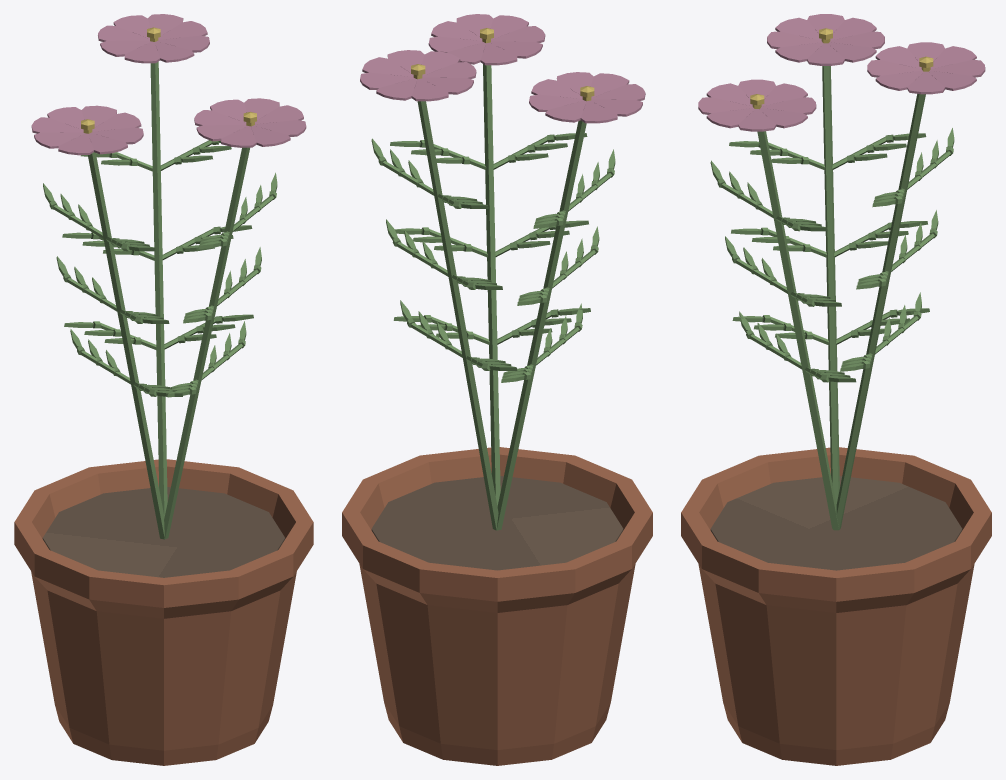
The model's file is cosmos.glb.
3 views of the same model, side by side, from view 1: azimuth 30°, elevation 25°; view 2: azimuth 150°, elevation 25°; view 3: azimuth 270°, elevation 25° (orthographic). The views are drawn at different scales.
Parts seen in each view (by area): view 1: cosmos/review-terra-vessel, cosmos/review-rooted-soil, cosmos/petiole-054, cosmos/petiole-107, cosmos/petiole-001, cosmos/petal-157, cosmos/petal-154, cosmos/petal-048, cosmos/petal-101, cosmos/petal-150, cosmos/petal-097, cosmos/petal-104 (+14 smaller); view 2: cosmos/review-terra-vessel, cosmos/review-rooted-soil, cosmos/petiole-054, cosmos/petiole-001, cosmos/petiole-107, cosmos/petal-154, cosmos/petal-101, cosmos/petal-048, cosmos/petal-044, cosmos/petal-045, cosmos/petal-151, cosmos/petal-098 (+16 smaller); view 3: cosmos/review-terra-vessel, cosmos/review-rooted-soil, cosmos/petiole-107, cosmos/petiole-054, cosmos/petiole-001, cosmos/petal-045, cosmos/petal-051, cosmos/petal-157, cosmos/petal-098, cosmos/petal-151, cosmos/petal-104, cosmos/petal-046 (+14 smaller).
Part boxes in pixels (x1,y1,x2,y2): cosmos/review-terra-vessel: (14,459,313,765); cosmos/review-rooted-soil: (42,487,285,577); cosmos/petiole-054: (150,61,167,516); cosmos/petiole-107: (88,152,164,539); cosmos/petiole-001: (164,147,249,539); cosmos/petal-157: (31,117,83,133); cosmos/petal-154: (92,112,141,131); cosmos/petal-048: (255,105,303,124); cosmos/petal-101: (158,21,207,39); cosmos/petal-150: (34,132,84,148); cosmos/petal-097: (100,40,150,56); cosmos/petal-104: (98,25,149,41); cosmos/review-terra-vessel: (342,447,652,765); cosmos/review-rooted-soil: (371,476,623,570); cosmos/petiole-054: (417,101,498,530); cosmos/petiole-001: (483,64,500,506); cosmos/petiole-107: (496,120,586,530); cosmos/petal-154: (531,79,582,98); cosmos/petal-101: (362,57,413,76); cosmos/petal-048: (431,21,482,40); cosmos/petal-044: (490,41,542,58); cosmos/petal-045: (491,26,545,42); cosmos/petal-151: (591,84,645,100); cosmos/petal-098: (422,62,476,78); cosmos/review-terra-vessel: (681,447,991,765); cosmos/review-rooted-soil: (710,476,962,570); cosmos/petiole-107: (822,66,839,504); cosmos/petiole-054: (836,94,925,529); cosmos/petiole-001: (757,131,838,530); cosmos/petal-045: (706,83,752,106); cosmos/petal-051: (761,83,807,106); cosmos/petal-157: (830,17,876,40); cosmos/petal-098: (875,46,921,68); cosmos/petal-151: (775,17,821,40); cosmos/petal-104: (930,46,976,68); cosmos/petal-046: (698,97,753,114).
Bounding box in the file's own units: 0.1907 × 0.4582 × 0.19.
5 materials, 5 textured.
